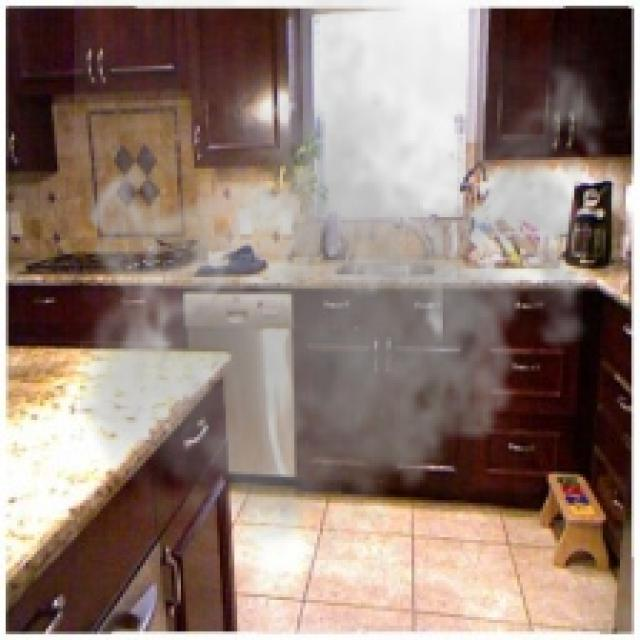smoke: (74, 0, 623, 566)
